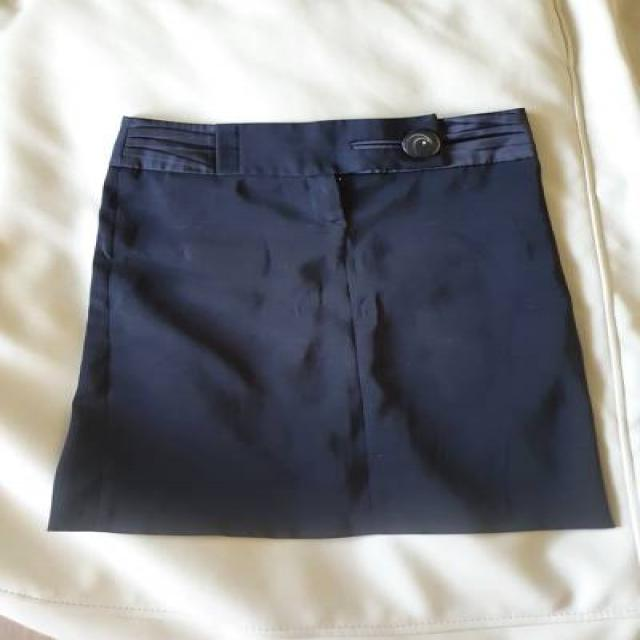Clothes -Biodegradable-: (45, 105, 619, 535)
